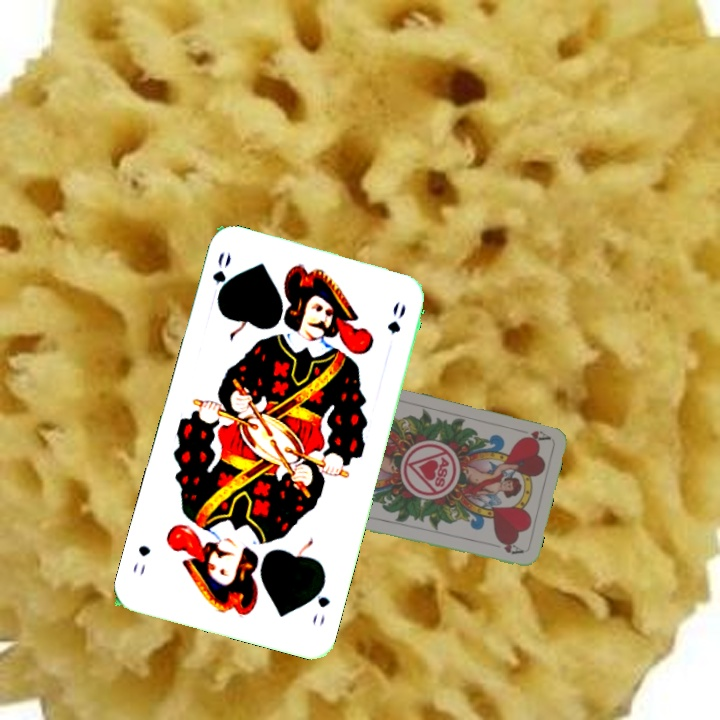GO: (208, 248, 234, 307), (308, 575, 333, 628)
HA: (512, 425, 552, 444)
